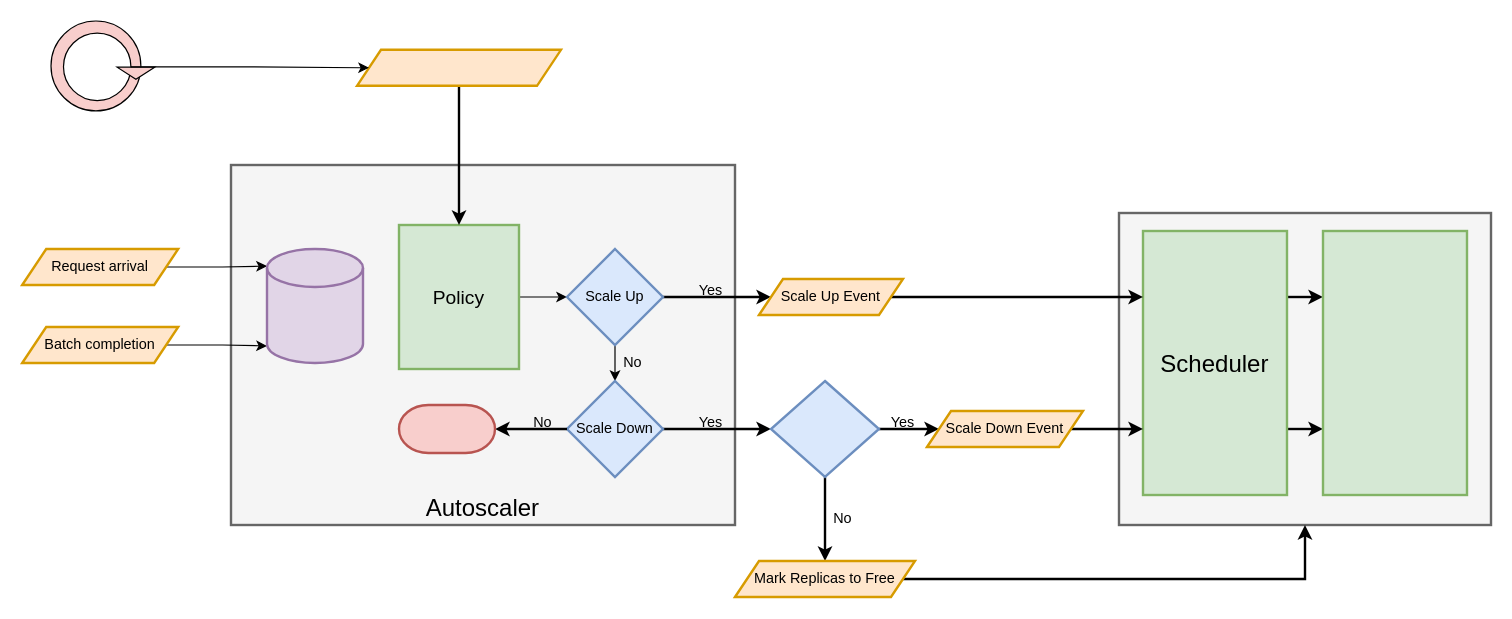
Image size: 1512x619. Some labels were removed from this diagram. The shapes that lost their labels are listed below. From the top down, each one's centre as x and y in pixels, then its label:
At (x=458, y=67): "Autoscaler Tuner Event".
At (x=314, y=305): "State".
At (x=1394, y=362): "Cluster".
At (x=446, y=428): "End".
At (x=824, y=428): "Idle Replicas".
